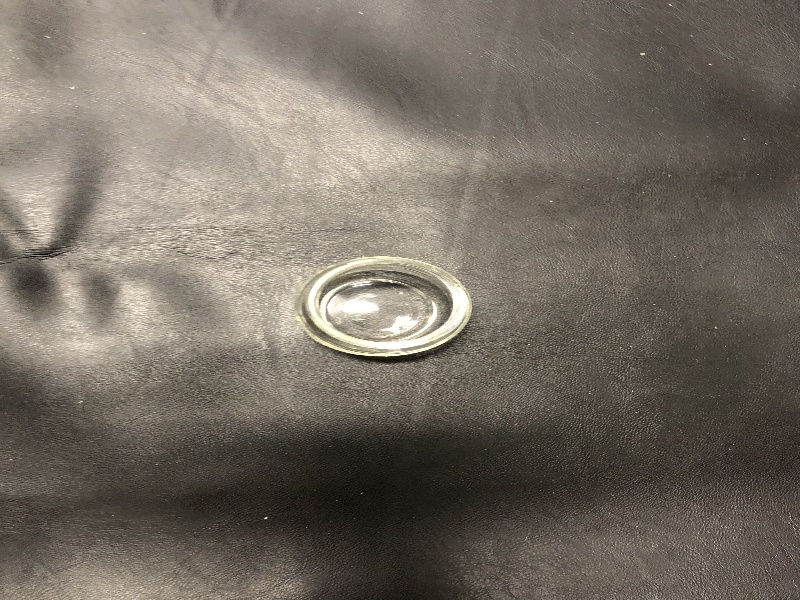glass: (295, 247, 483, 373)
